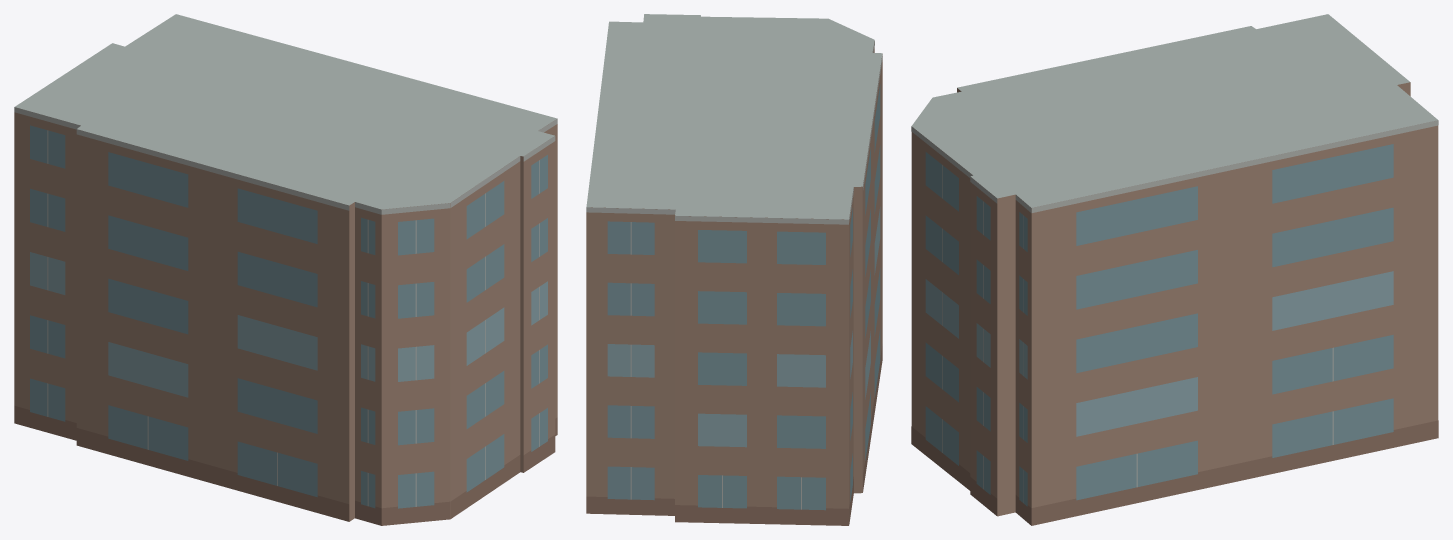
Rendered from survey-upis-32863897.glb.
3 renders of one model, left to right at view 1: azimuth 30°, elevation 25°; view 2: azimuth 150°, elevation 25°; view 3: azimuth 270°, elevation 25°, orthographic. The views are drawn at different scales.
Visible parts, largest first — view 1: survey-upis-32863897.tmp; view 2: survey-upis-32863897.tmp; view 3: survey-upis-32863897.tmp.
Boxes of the visible parts, box(x1,y1,x2,y2) form: survey-upis-32863897.tmp: box(14, 14, 557, 525); survey-upis-32863897.tmp: box(586, 14, 882, 525); survey-upis-32863897.tmp: box(911, 14, 1438, 525).
Bounding box in the file's own units: 19.04 × 14.55 × 21.86.
